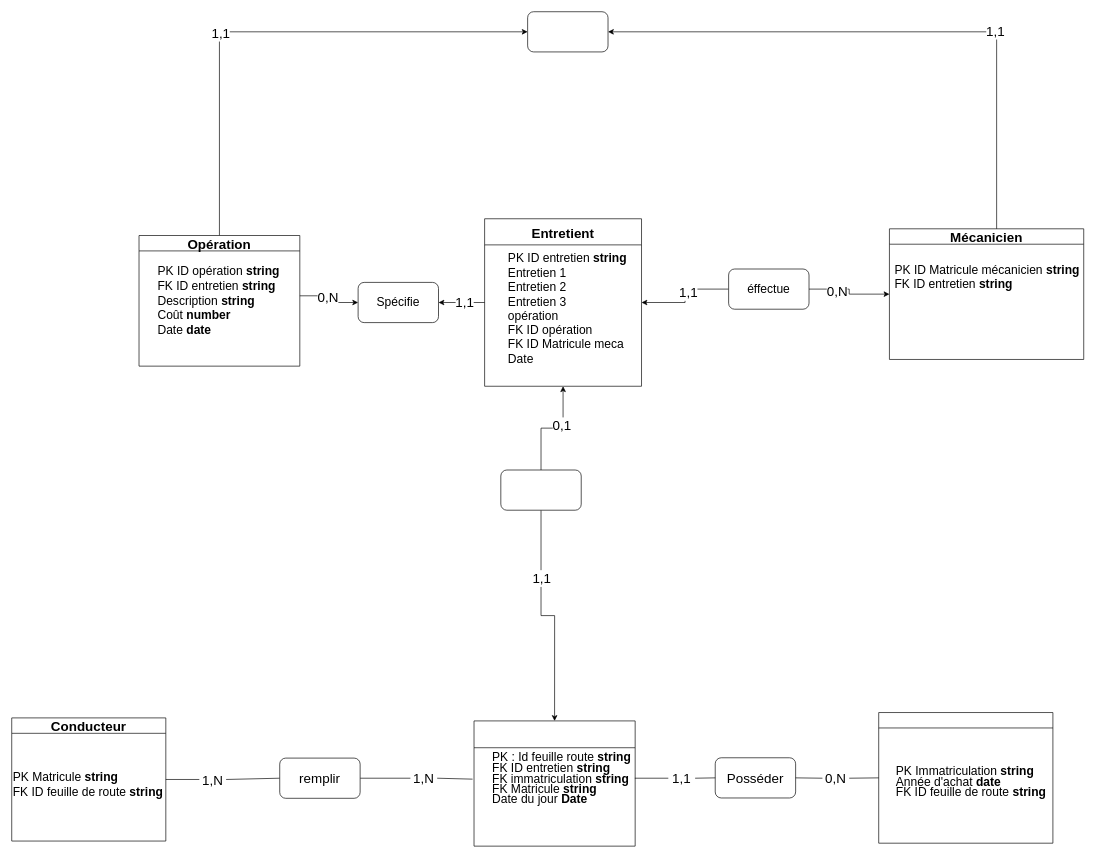
Some shapes in this 1095 by 858 pixel diagram are drawn without their labels. The shapes that lost their labels are listed below. From the top down, each one's box as (x1, y1, x2, y2) in pixels, then its label:
(527, 11, 608, 52): Complète
(500, 469, 581, 510): Décide
(473, 720, 635, 846): Feuille de route
(878, 712, 1053, 843): Bus
